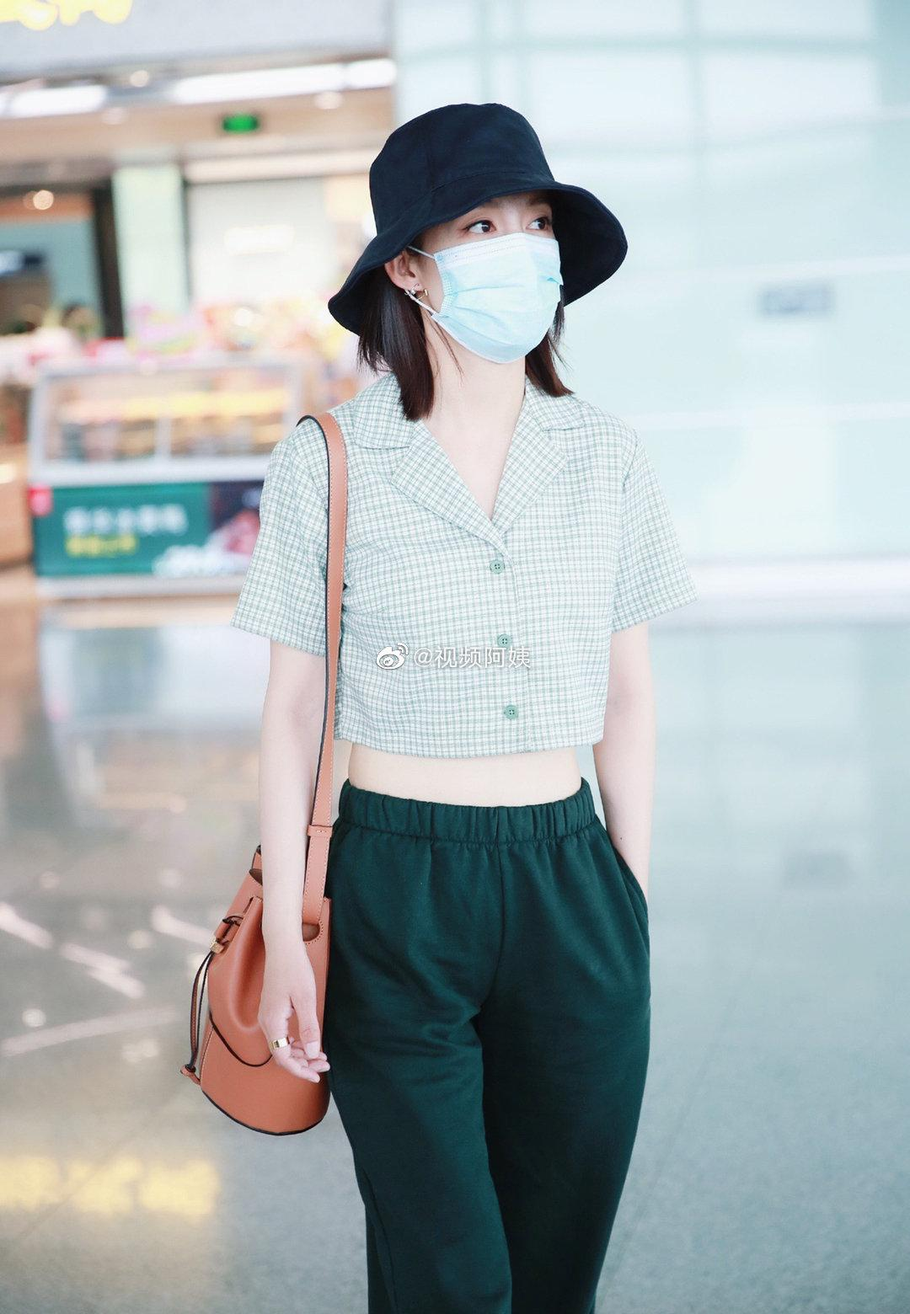OK: (436, 181, 566, 363)
